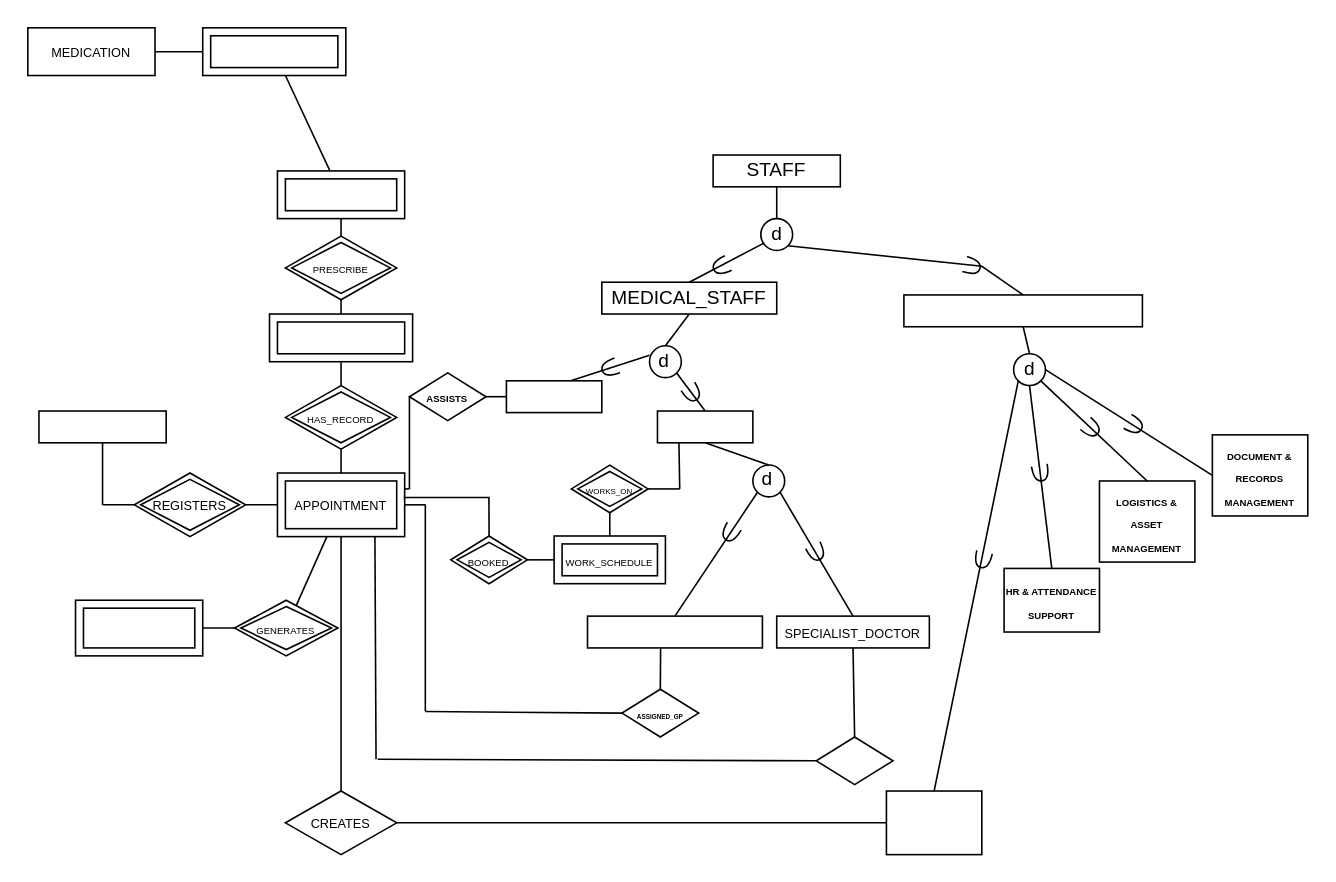
This 1336x882 diagram has some shape labels left out. Here are the shapes that lost their labels. From the top down, the centre of each, then its label:
the point at 273,51: PRESCRIPTION_DETAIL
the point at 340,194: PRESCRIPTION
the point at 1022,310: ADMINISTRATIVE_STAFF
the point at 340,337: MEDICAL_RECORD
the point at 553,396: NURSE
the point at 101,426: PATIENT
the point at 704,426: DOCTOR
the point at 138,627: BILL
the point at 674,631: GENERAL_PRACTITIONER
the point at 854,760: ASSIGNED_SD
the point at 933,822: COORDINATION & RECEPTION
